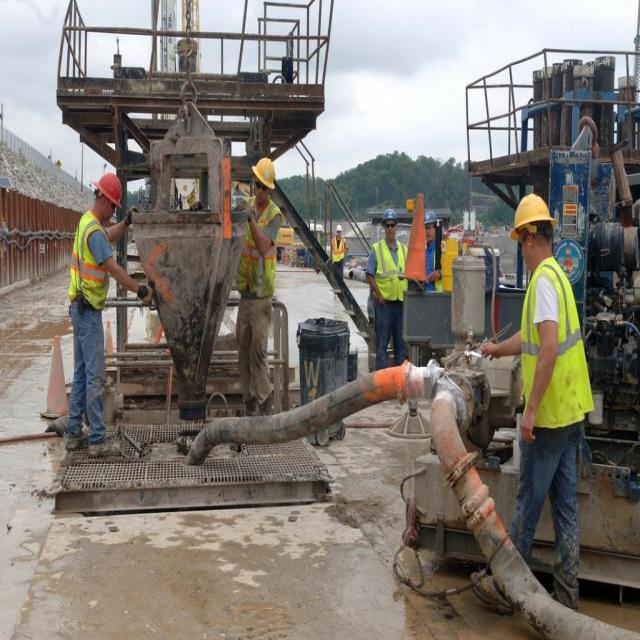Vest: (512, 261, 588, 434), (237, 189, 280, 291), (70, 207, 112, 310), (371, 236, 412, 300)
